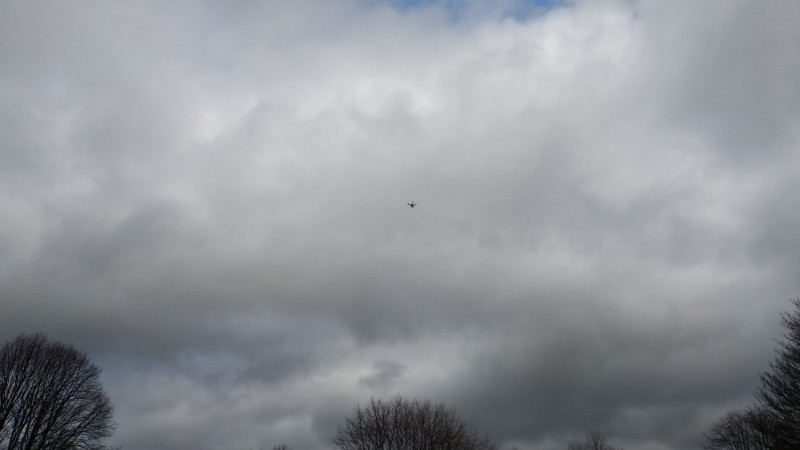drone: (407, 200, 419, 209)
